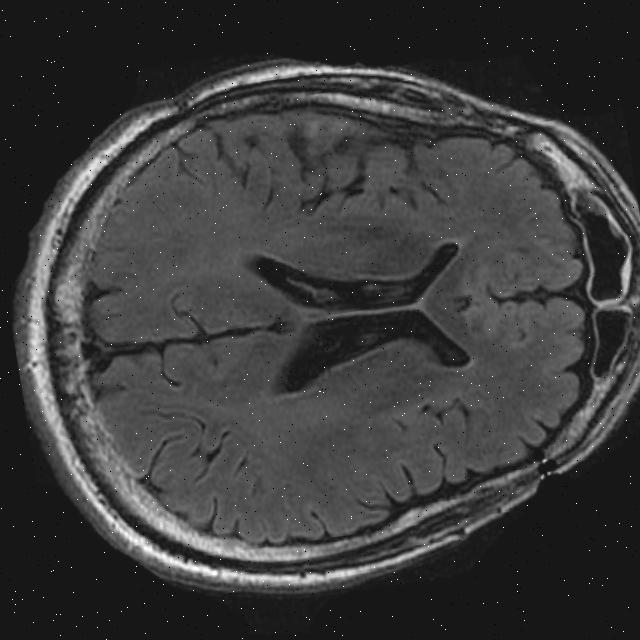NoTumor: (1, 10, 640, 629)
